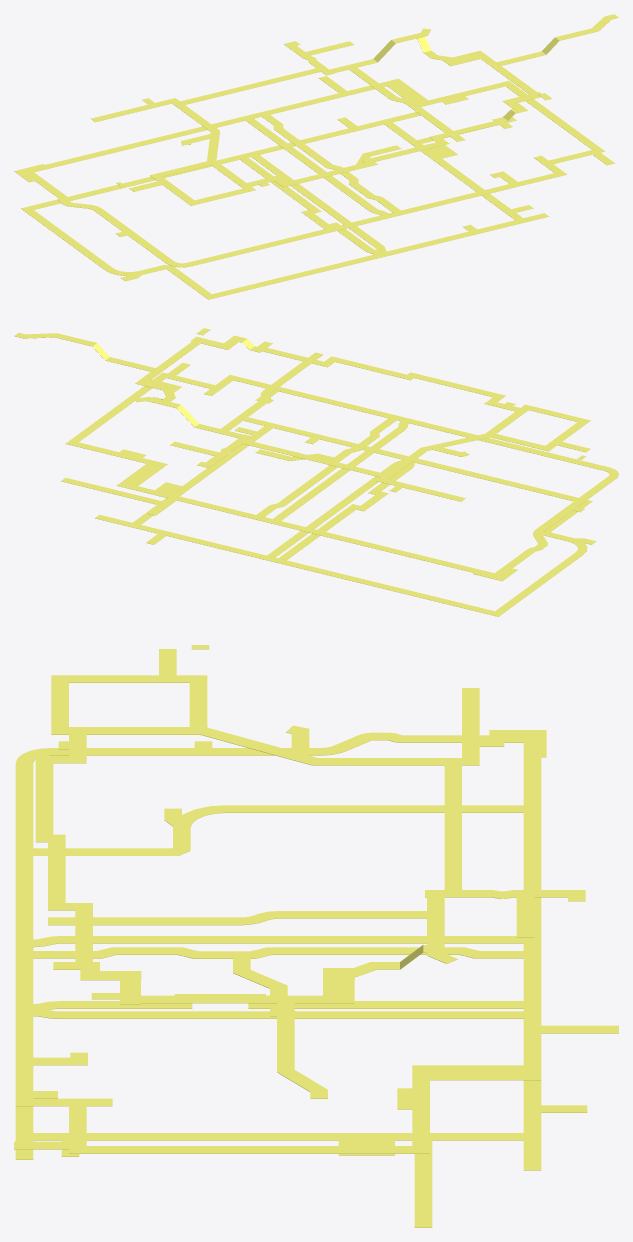
The model's file is huldra-big-walkway.obj.
3 views of the same model, one above another, from view 1: azimuth 30°, elevation 25°; view 2: azimuth 150°, elevation 25°; view 3: azimuth 270°, elevation 25° (orthographic). The views are drawn at different scales.
Parts seen in each view (by area): view 1: BOX_25_of_SUBSTRUCTURE_/ESCAPE-MEZZ/FLOOR_Mesh.45791, BOX_27_of_SUBSTRUCTURE_/ESCAPE-CELLAR/FLOOR_Mesh.45761, BOX_21_of_SUBSTRUCTURE_/ESCAPE-CELLAR/FLOOR_Mesh.45751, BOX_24_of_SUBSTRUCTURE_/ESCAPE-MEZZ/FLOOR_Mesh.45790, BOX_1_of_SUBSTRUCTURE_/ESCAPE-MEZZ/FLOOR_Mesh.45762, BOX_8_of_SUBSTRUCTURE_/ESCAPE-MEZZ/FLOOR_Mesh.45769, BOX_7_of_SUBSTRUCTURE_/ESCAPE-MEZZ/FLOOR_Mesh.45768, BOX_9_of_SUBSTRUCTURE_/ESCAPE-CELLAR/FLOOR_Mesh.45738, BOX_19_of_SUBSTRUCTURE_/ESCAPE-CELLAR/FLOOR_Mesh.45749, BOX_7_of_SUBSTRUCTURE_/ESCAPE-CELLAR/FLOOR_Mesh.45736, BOX_1_of_SUBSTRUCTURE_/ESCAPE-WEATH/FLOOR_Mesh.45807, BOX_14_of_SUBSTRUCTURE_/ESCAPE-MEZZ/FLOOR_Mesh.45775 (+11 smaller); view 2: BOX_25_of_SUBSTRUCTURE_/ESCAPE-MEZZ/FLOOR_Mesh.45791, BOX_27_of_SUBSTRUCTURE_/ESCAPE-CELLAR/FLOOR_Mesh.45761, BOX_1_of_SUBSTRUCTURE_/ESCAPE-MEZZ/FLOOR_Mesh.45762, BOX_21_of_SUBSTRUCTURE_/ESCAPE-CELLAR/FLOOR_Mesh.45751, BOX_1_of_SUBSTRUCTURE_/ESCAPE-CELLAR/FLOOR_Mesh.45730, BOX_24_of_SUBSTRUCTURE_/ESCAPE-MEZZ/FLOOR_Mesh.45790, BOX_7_of_SUBSTRUCTURE_/ESCAPE-MEZZ/FLOOR_Mesh.45768, BOX_8_of_SUBSTRUCTURE_/ESCAPE-MEZZ/FLOOR_Mesh.45769, BOX_9_of_SUBSTRUCTURE_/ESCAPE-CELLAR/FLOOR_Mesh.45738, BOX_1_of_SUBSTRUCTURE_/ESCAPE-WEATH/FLOOR_Mesh.45807, BOX_7_of_SUBSTRUCTURE_/ESCAPE-CELLAR/FLOOR_Mesh.45736, BOX_14_of_SUBSTRUCTURE_/ESCAPE-MEZZ/FLOOR_Mesh.45775 (+12 smaller); view 3: BOX_27_of_SUBSTRUCTURE_/ESCAPE-CELLAR/FLOOR_Mesh.45761, BOX_25_of_SUBSTRUCTURE_/ESCAPE-MEZZ/FLOOR_Mesh.45791, BOX_7_of_SUBSTRUCTURE_/ESCAPE-MEZZ/FLOOR_Mesh.45768, BOX_24_of_SUBSTRUCTURE_/ESCAPE-MEZZ/FLOOR_Mesh.45790, BOX_8_of_SUBSTRUCTURE_/ESCAPE-MEZZ/FLOOR_Mesh.45769, BOX_7_of_SUBSTRUCTURE_/ESCAPE-CELLAR/FLOOR_Mesh.45736, BOX_9_of_SUBSTRUCTURE_/ESCAPE-CELLAR/FLOOR_Mesh.45738, BOX_1_of_SUBSTRUCTURE_/ESCAPE-MEZZ/FLOOR_Mesh.45762, BOX_1_of_SUBSTRUCTURE_/ESCAPE-WEATH/FLOOR_Mesh.45807, BOX_22_of_SUBSTRUCTURE_/ESCAPE-CELLAR/FLOOR_Mesh.45752, BOX_4_of_SUBSTRUCTURE_/ESCAPE-MEZZ/FLOOR_Mesh.45765, BOX_20_of_SUBSTRUCTURE_/ESCAPE-MEZZ/FLOOR_Mesh.45786 (+25 smaller).
Boxes of the visible parts, <box> form: BOX_25_of_SUBSTRUCTURE_/ESCAPE-MEZZ/FLOOR_Mesh.45791: <box>246,118,376,210</box>; BOX_27_of_SUBSTRUCTURE_/ESCAPE-CELLAR/FLOOR_Mesh.45761: <box>251,155,382,247</box>; BOX_21_of_SUBSTRUCTURE_/ESCAPE-CELLAR/FLOOR_Mesh.45751: <box>250,245,417,288</box>; BOX_24_of_SUBSTRUCTURE_/ESCAPE-MEZZ/FLOOR_Mesh.45790: <box>250,207,417,250</box>; BOX_1_of_SUBSTRUCTURE_/ESCAPE-MEZZ/FLOOR_Mesh.45762: <box>114,108,281,151</box>; BOX_8_of_SUBSTRUCTURE_/ESCAPE-MEZZ/FLOOR_Mesh.45769: <box>413,171,567,210</box>; BOX_7_of_SUBSTRUCTURE_/ESCAPE-MEZZ/FLOOR_Mesh.45768: <box>501,81,604,153</box>; BOX_9_of_SUBSTRUCTURE_/ESCAPE-CELLAR/FLOOR_Mesh.45738: <box>21,206,112,269</box>; BOX_19_of_SUBSTRUCTURE_/ESCAPE-CELLAR/FLOOR_Mesh.45749: <box>413,213,548,248</box>; BOX_7_of_SUBSTRUCTURE_/ESCAPE-CELLAR/FLOOR_Mesh.45736: <box>434,158,527,222</box>; BOX_1_of_SUBSTRUCTURE_/ESCAPE-WEATH/FLOOR_Mesh.45807: <box>172,72,302,106</box>; BOX_14_of_SUBSTRUCTURE_/ESCAPE-MEZZ/FLOOR_Mesh.45775: <box>94,208,173,262</box>; BOX_25_of_SUBSTRUCTURE_/ESCAPE-MEZZ/FLOOR_Mesh.45791: <box>273,428,405,520</box>; BOX_27_of_SUBSTRUCTURE_/ESCAPE-CELLAR/FLOOR_Mesh.45761: <box>267,464,396,557</box>; BOX_1_of_SUBSTRUCTURE_/ESCAPE-MEZZ/FLOOR_Mesh.45762: <box>239,512,408,555</box>; BOX_21_of_SUBSTRUCTURE_/ESCAPE-CELLAR/FLOOR_Mesh.45751: <box>377,449,545,493</box>; BOX_1_of_SUBSTRUCTURE_/ESCAPE-CELLAR/FLOOR_Mesh.45730: <box>248,552,408,593</box>; BOX_24_of_SUBSTRUCTURE_/ESCAPE-MEZZ/FLOOR_Mesh.45790: <box>377,411,545,455</box>; BOX_7_of_SUBSTRUCTURE_/ESCAPE-MEZZ/FLOOR_Mesh.45768: <box>65,372,170,445</box>; BOX_8_of_SUBSTRUCTURE_/ESCAPE-MEZZ/FLOOR_Mesh.45769: <box>225,375,380,415</box>; BOX_9_of_SUBSTRUCTURE_/ESCAPE-CELLAR/FLOOR_Mesh.45738: <box>490,552,583,616</box>; BOX_1_of_SUBSTRUCTURE_/ESCAPE-WEATH/FLOOR_Mesh.45807: <box>261,444,392,479</box>; BOX_7_of_SUBSTRUCTURE_/ESCAPE-CELLAR/FLOOR_Mesh.45736: <box>183,422,277,488</box>; BOX_14_of_SUBSTRUCTURE_/ESCAPE-MEZZ/FLOOR_Mesh.45775: <box>535,476,616,531</box>; BOX_27_of_SUBSTRUCTURE_/ESCAPE-CELLAR/FLOOR_Mesh.45761: <box>59,1011,523,1018</box>; BOX_25_of_SUBSTRUCTURE_/ESCAPE-MEZZ/FLOOR_Mesh.45791: <box>62,936,523,943</box>; BOX_7_of_SUBSTRUCTURE_/ESCAPE-MEZZ/FLOOR_Mesh.45768: <box>69,1146,429,1153</box>; BOX_24_of_SUBSTRUCTURE_/ESCAPE-MEZZ/FLOOR_Mesh.45790: <box>15,820,33,968</box>; BOX_8_of_SUBSTRUCTURE_/ESCAPE-MEZZ/FLOOR_Mesh.45769: <box>15,969,33,1106</box>; BOX_7_of_SUBSTRUCTURE_/ESCAPE-CELLAR/FLOOR_Mesh.45736: <box>15,1133,338,1140</box>; BOX_9_of_SUBSTRUCTURE_/ESCAPE-CELLAR/FLOOR_Mesh.45738: <box>226,805,523,812</box>; BOX_1_of_SUBSTRUCTURE_/ESCAPE-MEZZ/FLOOR_Mesh.45762: <box>523,820,541,968</box>; BOX_1_of_SUBSTRUCTURE_/ESCAPE-WEATH/FLOOR_Mesh.45807: <box>444,758,461,873</box>; BOX_22_of_SUBSTRUCTURE_/ESCAPE-CELLAR/FLOOR_Mesh.45752: <box>248,1001,523,1008</box>; BOX_4_of_SUBSTRUCTURE_/ESCAPE-MEZZ/FLOOR_Mesh.45765: <box>523,969,541,1065</box>; BOX_20_of_SUBSTRUCTURE_/ESCAPE-MEZZ/FLOOR_Mesh.45786: <box>430,1065,541,1080</box>.
Size of the model in its own units: 66.44 by 12.33 by 34.33.
